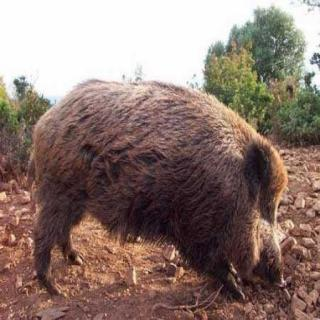Pig: (18, 80, 300, 311)
